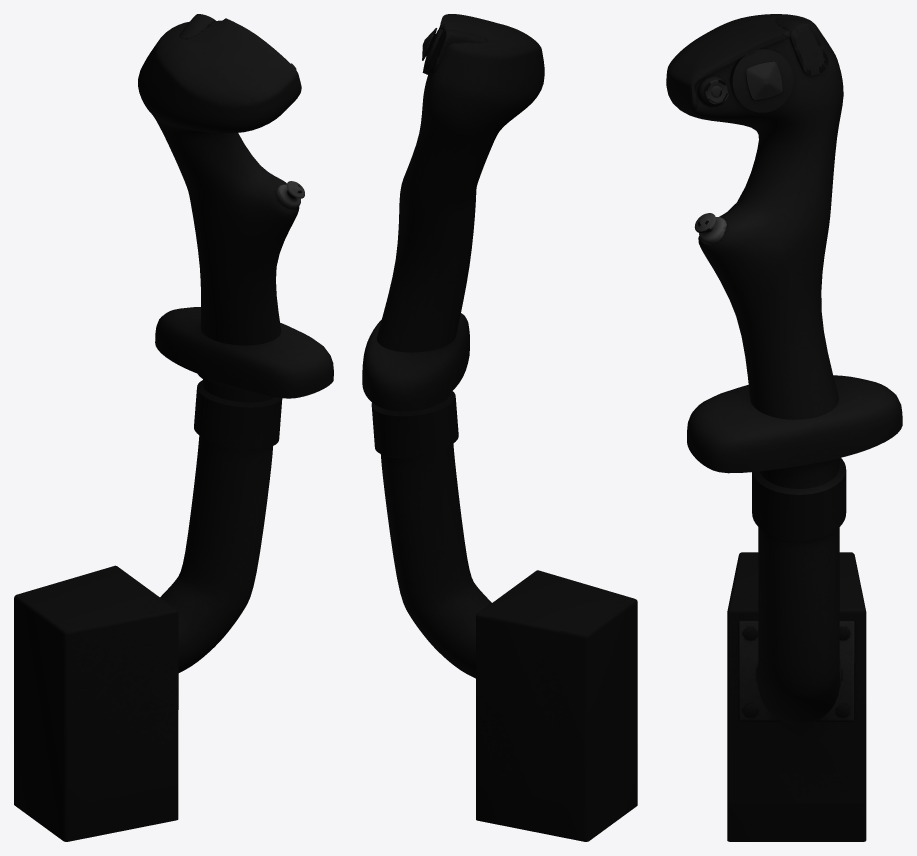
The model's file is stick.fbx.
3 renders of one model, left to right at view 1: azimuth 30°, elevation 25°; view 2: azimuth 150°, elevation 25°; view 3: azimuth 270°, elevation 25°, orthographic. The views are drawn at different scales.
Visible parts, largest first — view 1: stick.handle, stick.leg, stick.mast; view 2: stick.leg, stick.handle, stick.mast; view 3: stick.handle, stick.leg, stick.mast.
Part boxes in pixels (<box>): stick.handle: <box>138,14,333,398</box>; stick.leg: <box>14,565,178,841</box>; stick.mast: <box>160,379,282,672</box>; stick.leg: <box>476,570,637,841</box>; stick.handle: <box>362,14,544,411</box>; stick.mast: <box>371,391,491,678</box>; stick.handle: <box>666,14,902,473</box>; stick.leg: <box>727,552,866,841</box>; stick.mast: <box>752,458,846,724</box>.
Bounding box in the file's own units: 11.38 × 8.05 × 31.89.
1 material, 1 textured.
